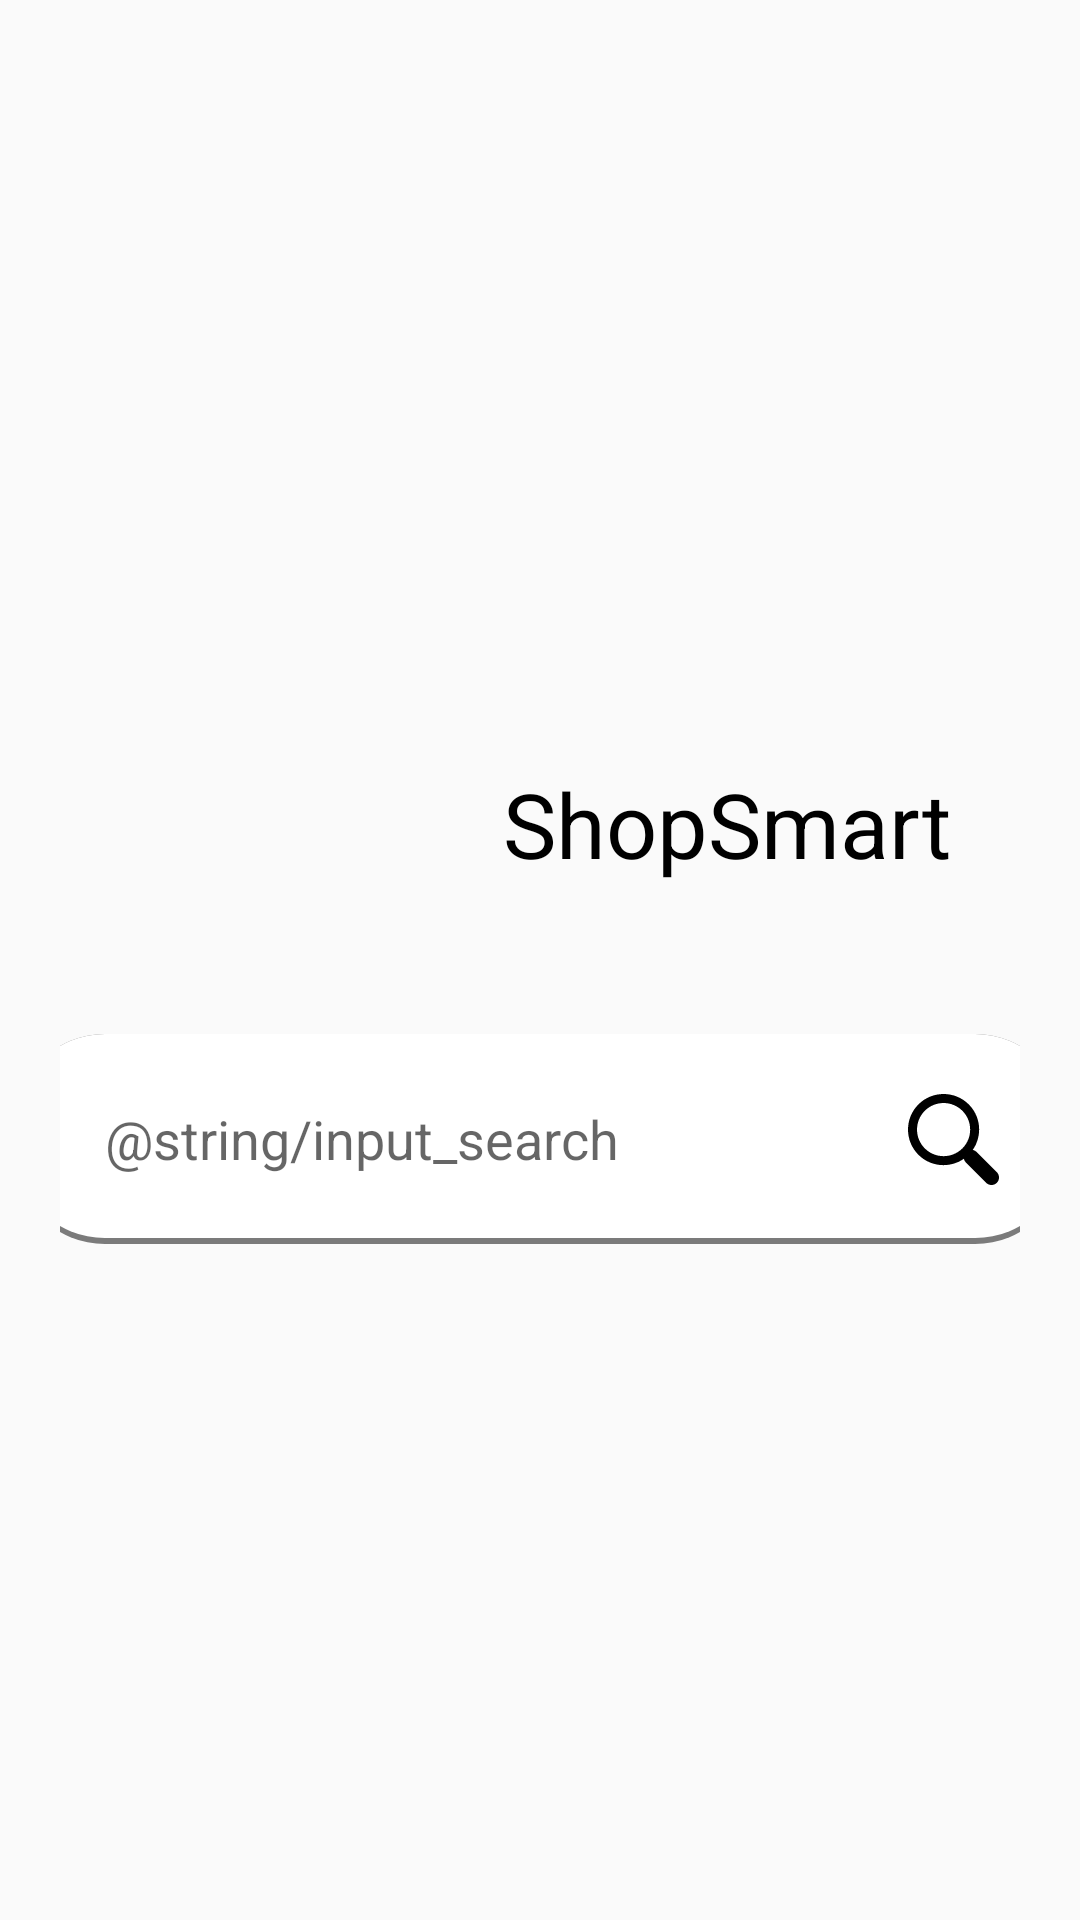

Icons on this 1080 × 1920 Android screen, each with the point to tap as [x,y]:
search: [964,1109]
